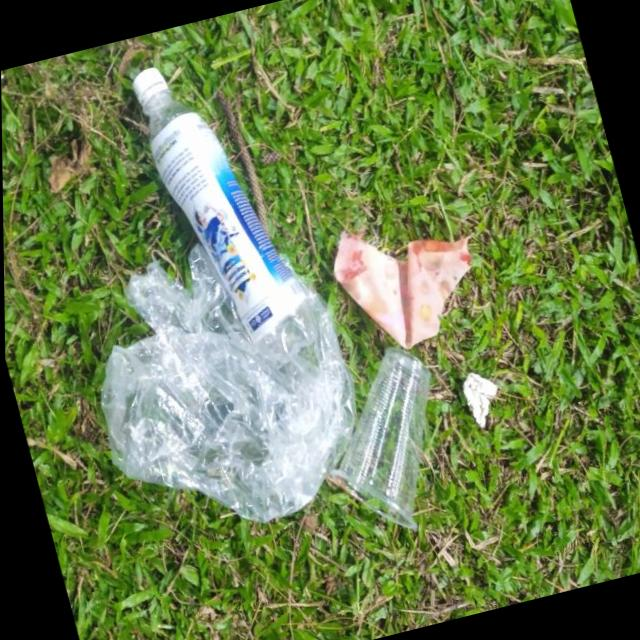food: (302, 205, 498, 363), (445, 357, 515, 452)
leaf: (101, 25, 339, 392), (308, 340, 471, 560)
metal: (42, 212, 377, 558), (258, 447, 375, 521)
